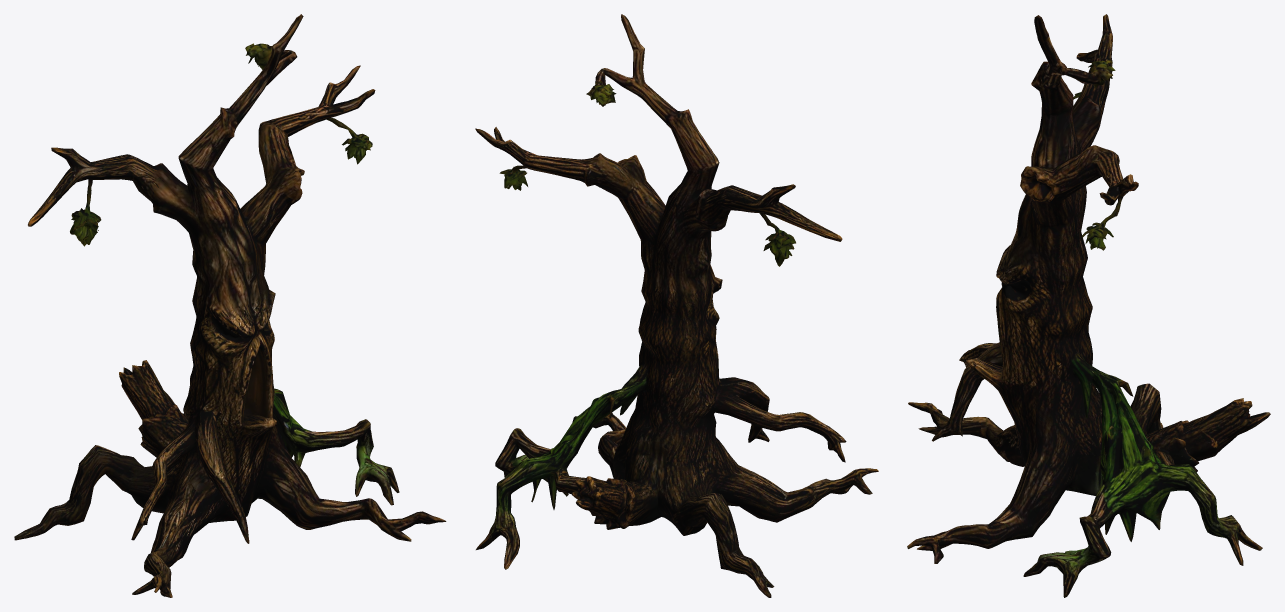
Rendered from trent.glb.
The picture shows the model from 3 angles, left to right: view 1: azimuth 30°, elevation 25°; view 2: azimuth 150°, elevation 25°; view 3: azimuth 270°, elevation 25°; orthographic projection. The views are drawn at different scales.
Parts seen in each view (by area): view 1: tripo_node_0a7a5d2d-9c9c-49b9-b782-a140c3a88b9b; view 2: tripo_node_0a7a5d2d-9c9c-49b9-b782-a140c3a88b9b; view 3: tripo_node_0a7a5d2d-9c9c-49b9-b782-a140c3a88b9b.
Boxes of the visible parts, left/top/right/bottom form: tripo_node_0a7a5d2d-9c9c-49b9-b782-a140c3a88b9b: left=14, top=14, right=446, bottom=597; tripo_node_0a7a5d2d-9c9c-49b9-b782-a140c3a88b9b: left=475, top=14, right=878, bottom=597; tripo_node_0a7a5d2d-9c9c-49b9-b782-a140c3a88b9b: left=907, top=14, right=1270, bottom=597.
Bounding box in the file's own units: 0.7348 × 1 × 0.6196.
1 material, 1 textured.
